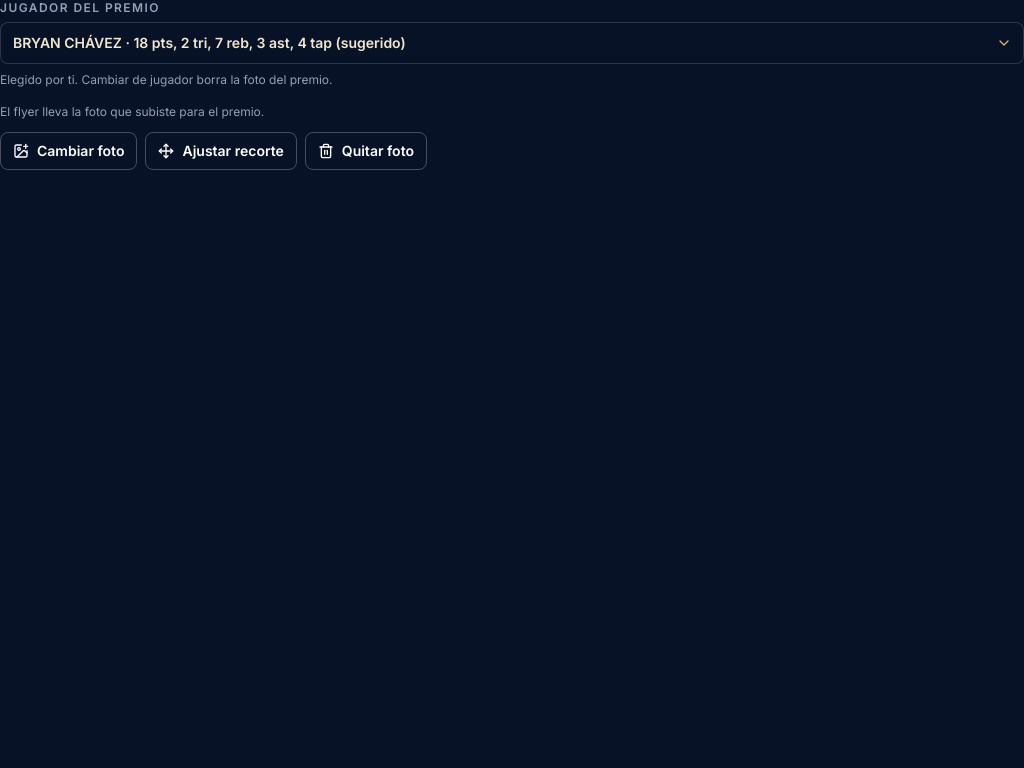
Test: AccionesPremio: el jugador › con una foto de por medio pregunta antes de cambiar, nombrando a los dos, y cancelar no toca nada
Select "LUIS MACÍAS · 12 pts, 3 reb, 1 tap" in the dropdown labelled "Jugador del premio" at [512, 43], box [0,22,1023,64]
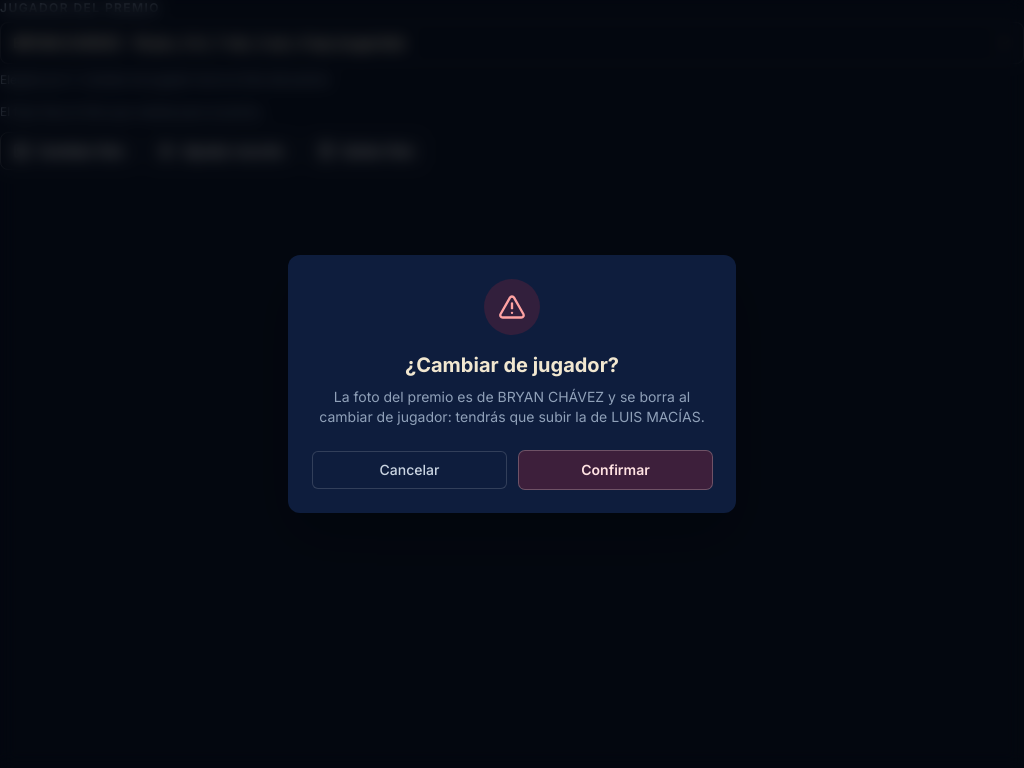
Check: the heading "¿Cambiar de jugador?" is shown, box [405,353,619,377]
Check: the text "La foto del premio es de BRYAN CHÁVEZ y se borra al cambiar de jugador: tendrás que subir la de LUIS MACÍAS." is shown, box [319,388,705,425]
Click the button "Cancelar".
click(410, 470)  # box [312,451,507,489]
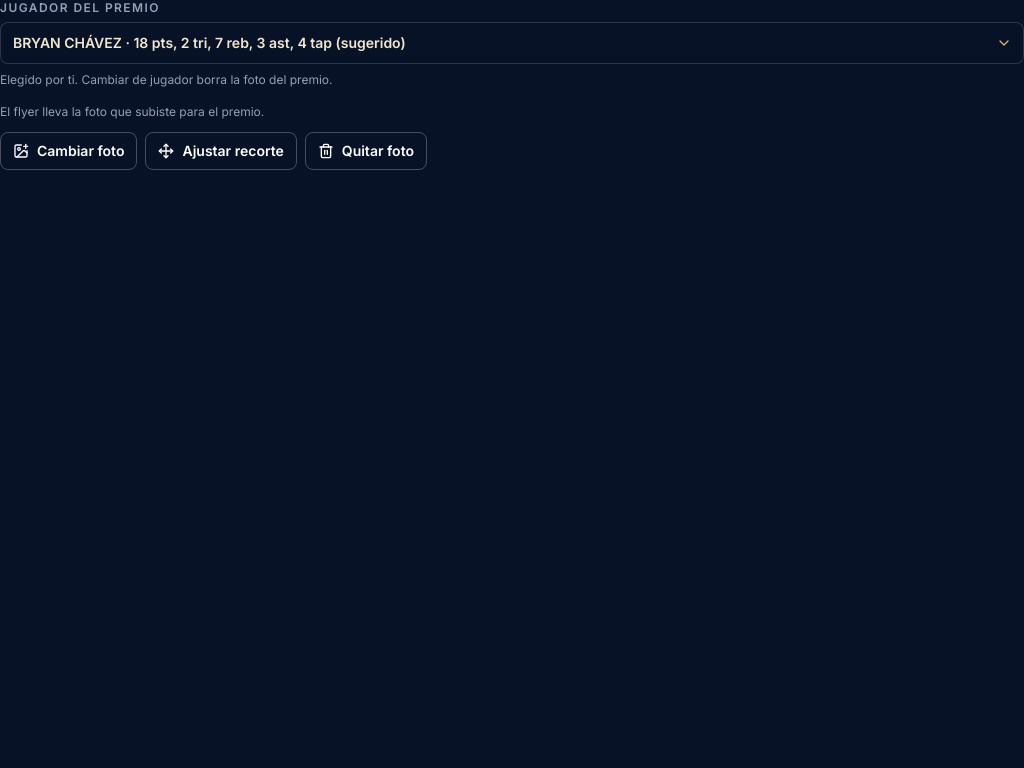
Check: the heading "¿Cambiar de jugador?" is gone
